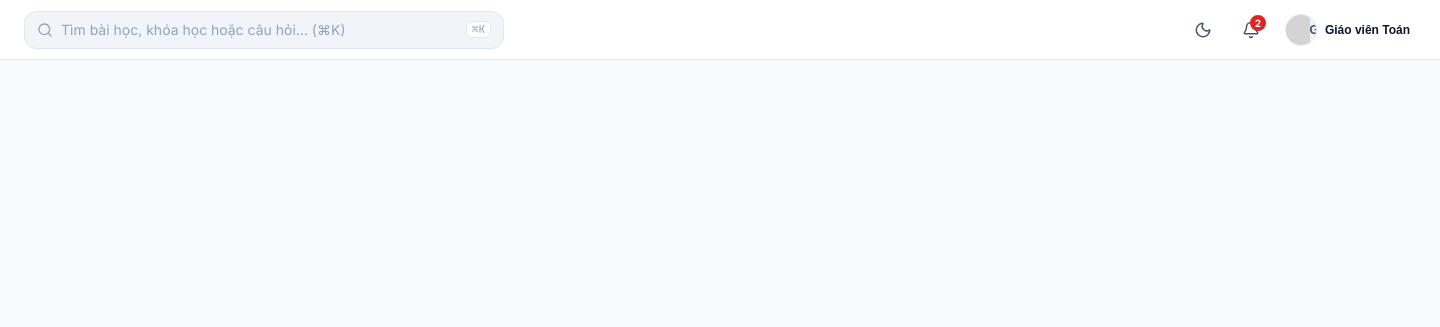
Test: Topbar Header & Authentication Navigation (P20-000) › Authenticated Role-Specific Navigation › shows "Không gian giáo viên" inside dropdown for teacher and hides "Trang quản trị"
Click the button with aria-label "Menu tài khoản": (1347, 30) [1279, 10, 1416, 50]
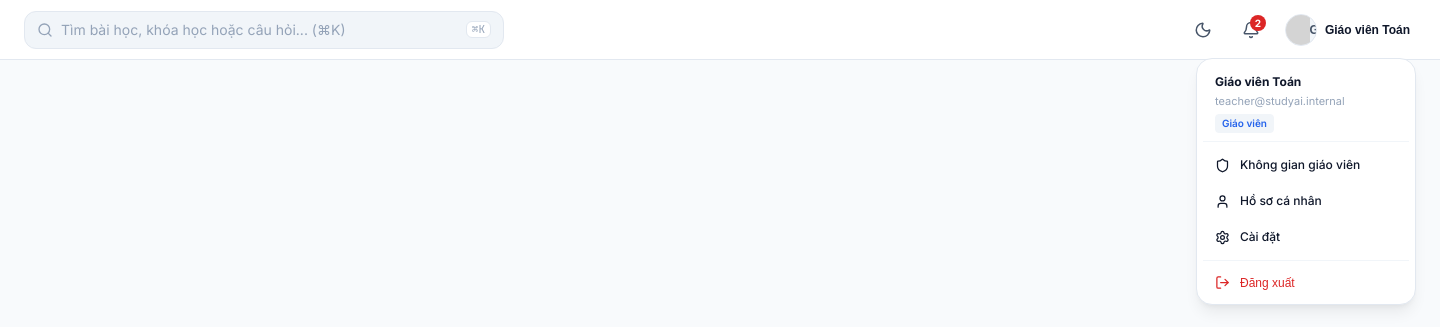
Check: the menu item "Không gian giáo viên" is shown, box [1215, 157, 1360, 172]
Check: the text "Giáo viên" is shown, box [1215, 114, 1274, 133]
